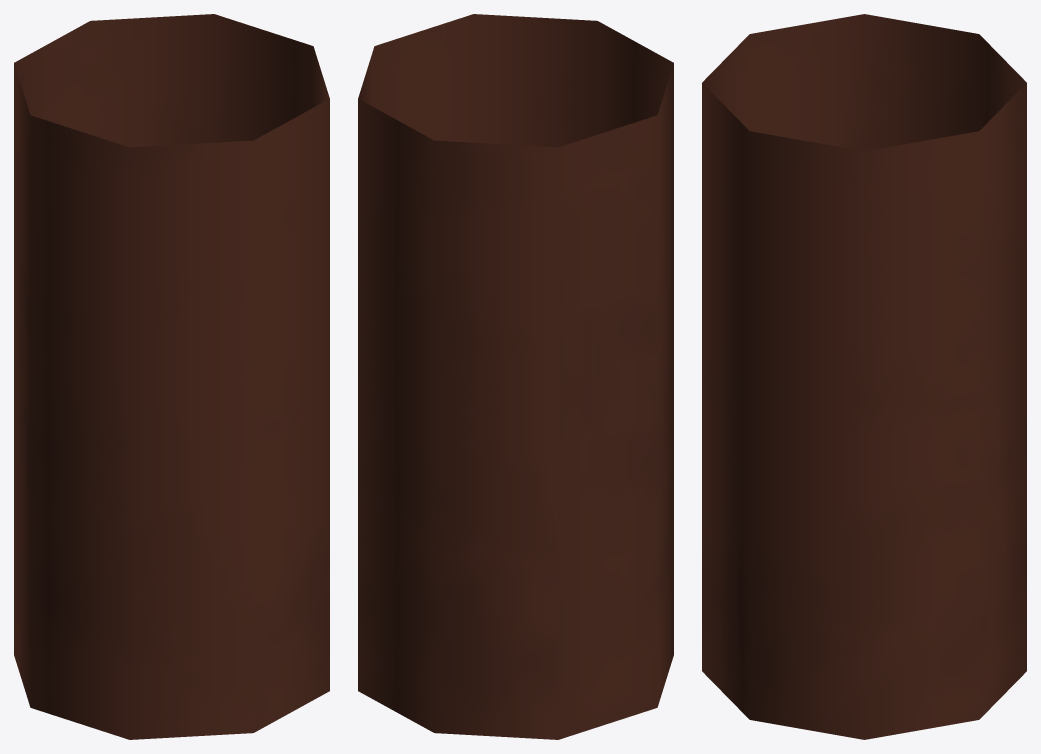
The model's file is Pipe.fbx.
3 renders of one model, left to right at view 1: azimuth 30°, elevation 25°; view 2: azimuth 150°, elevation 25°; view 3: azimuth 270°, elevation 25°, orthographic.
Parts seen in each view (by area): view 1: Pipe; view 2: Pipe; view 3: Pipe.
Boxes of the visible parts, left/top/right/bottom form: Pipe: left=14, top=14, right=329, bottom=739; Pipe: left=358, top=14, right=673, bottom=739; Pipe: left=702, top=14, right=1026, bottom=739.
Size of the model in its own units: 2 by 4 by 2.
